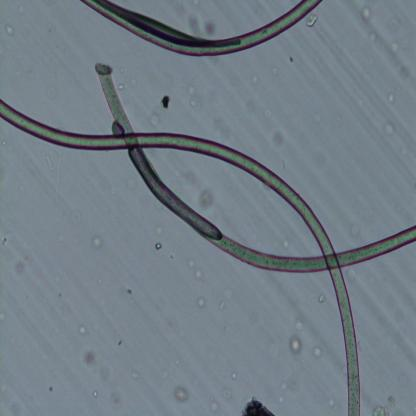Background material: (238, 92, 274, 124), (184, 11, 216, 39), (235, 396, 277, 416), (367, 392, 396, 416), (275, 378, 293, 406), (198, 186, 215, 214), (268, 128, 288, 150), (186, 256, 203, 281), (172, 382, 190, 404), (108, 385, 124, 409), (144, 109, 162, 130), (288, 334, 303, 359), (366, 21, 380, 47), (82, 347, 98, 368), (186, 81, 199, 106), (118, 280, 135, 298), (305, 13, 321, 31), (382, 118, 396, 138), (99, 364, 112, 385), (12, 255, 27, 273), (386, 85, 398, 106), (91, 234, 104, 252), (265, 62, 280, 77), (159, 93, 171, 111), (387, 39, 399, 57), (361, 4, 372, 23), (249, 69, 262, 85), (44, 154, 55, 172), (129, 365, 140, 381), (196, 294, 206, 311), (294, 318, 304, 334), (316, 292, 328, 305), (118, 74, 126, 92), (5, 24, 15, 38), (313, 347, 323, 361), (79, 322, 88, 336), (152, 240, 162, 252), (223, 387, 232, 400), (218, 299, 227, 310), (232, 371, 238, 381), (91, 390, 98, 398)
Microfibre: (0, 99, 362, 415), (95, 63, 416, 274), (80, 0, 324, 57)
